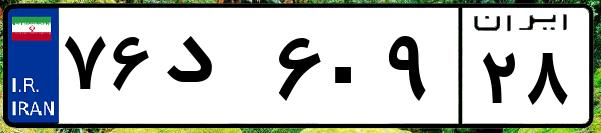0: (330, 28, 385, 110)
2: (475, 38, 525, 113)
6: (270, 28, 330, 110), (110, 28, 158, 98)
7: (57, 26, 110, 100)
8: (525, 38, 570, 115)
9: (385, 28, 445, 110)
د: (158, 20, 270, 120)
